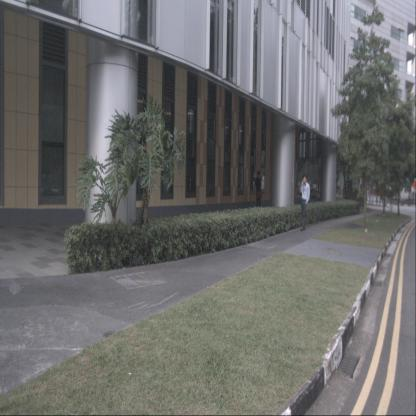human-pedestrian-adult: (300, 174, 310, 232), (255, 170, 262, 210), (138, 172, 144, 206)
